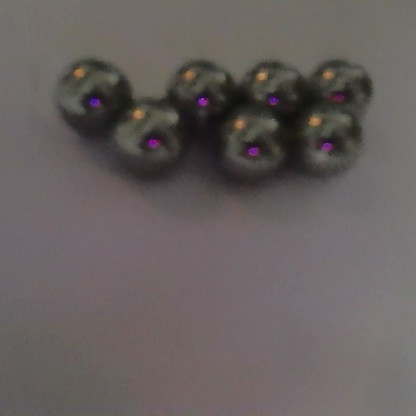ironball: (113, 96, 192, 175), (55, 52, 128, 136), (213, 103, 289, 176), (283, 107, 362, 177), (298, 53, 380, 114), (164, 55, 231, 120), (236, 53, 303, 105)
